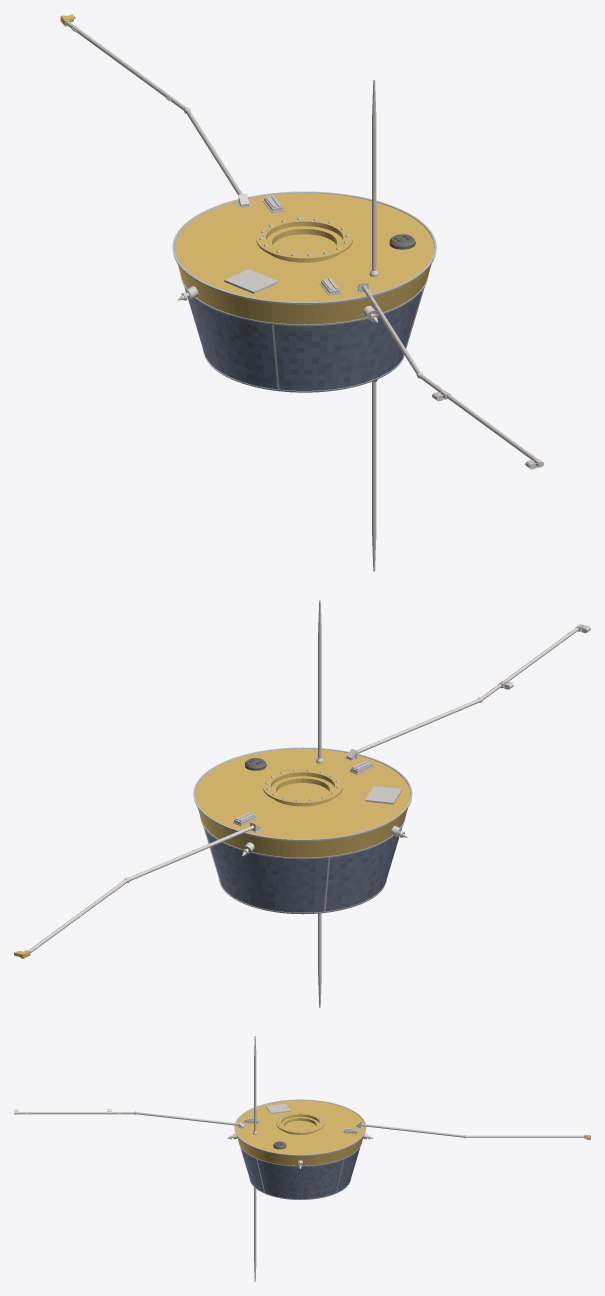
Rendered from Cluster.glb.
3 views of the same model, one above another, from view 1: azimuth 30°, elevation 25°; view 2: azimuth 150°, elevation 25°; view 3: azimuth 270°, elevation 25° (orthographic). The views are drawn at different scales.
Parts seen in each view (by area): view 1: Layer_0; view 2: Layer_0; view 3: Layer_0.
Part boxes in pixels (<box>): Layer_0: <box>60,14,544,571</box>; Layer_0: <box>14,600,590,1007</box>; Layer_0: <box>14,1036,590,1281</box>.
Bounding box in the file's own units: 7.86 × 14.55 × 30.97.
